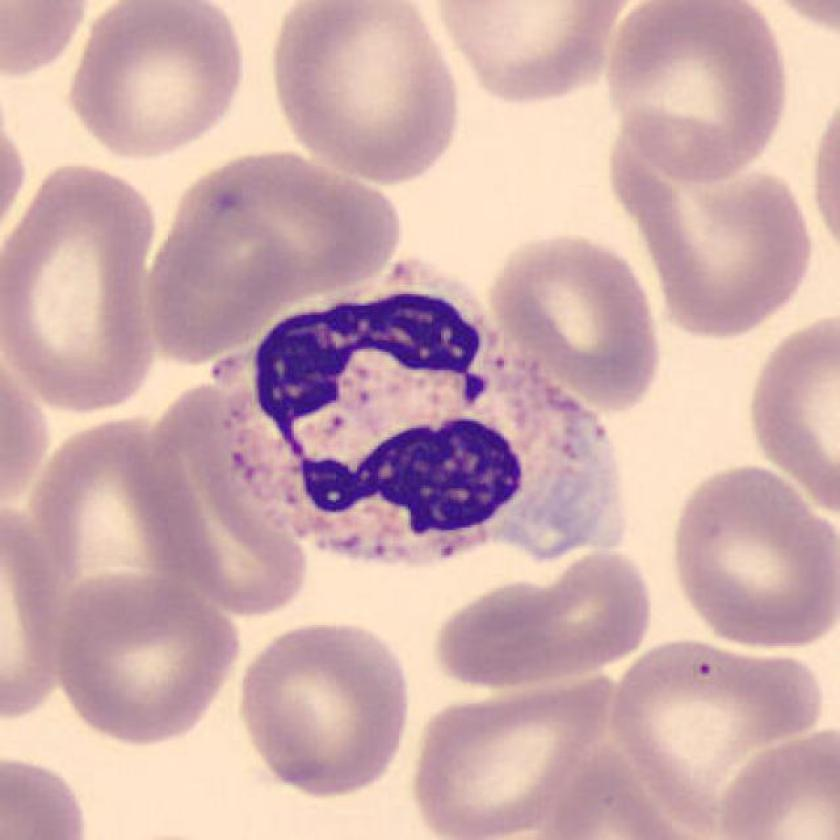neutrophil: (211, 266, 630, 564)
